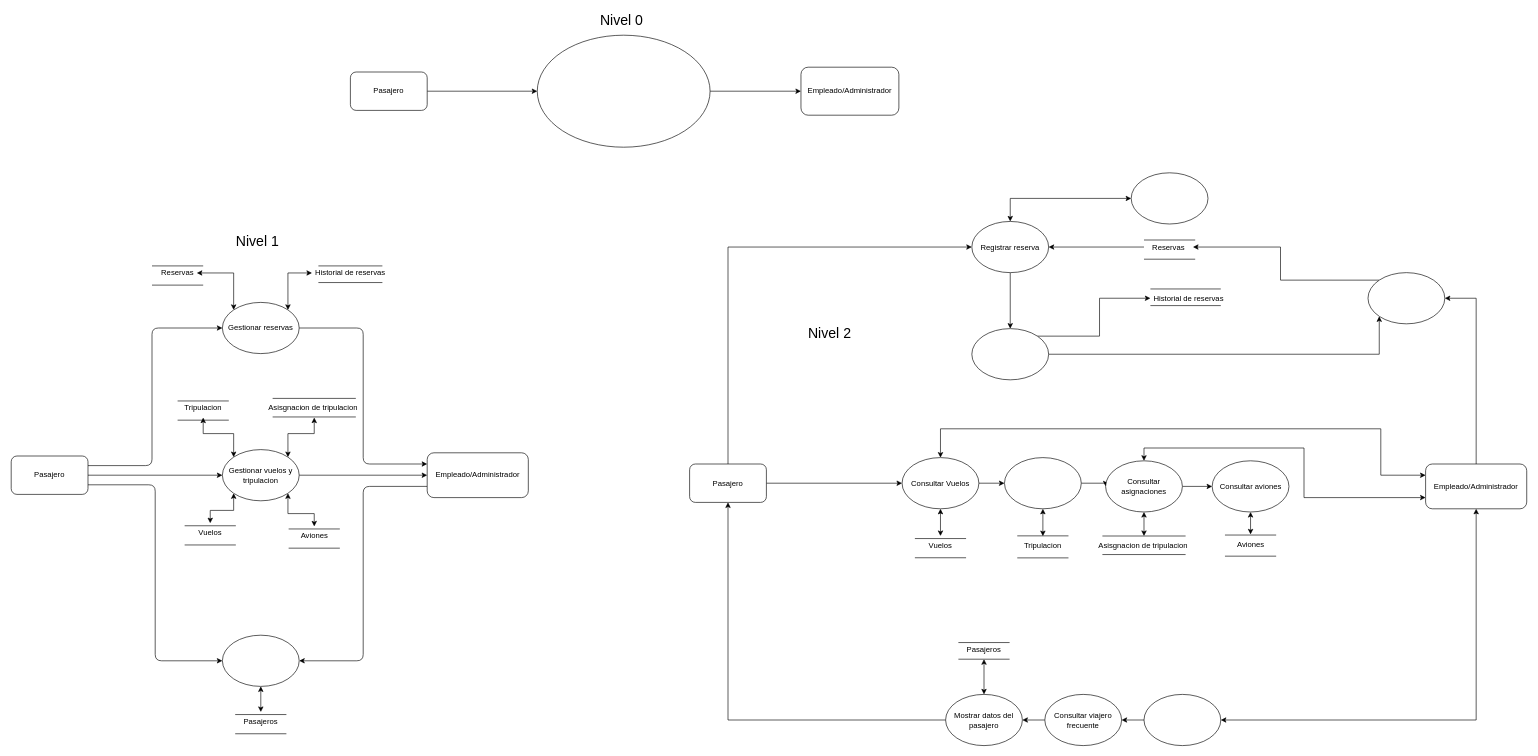
This 1538x756 diagram has some shape labels left out. Each missing label, with the centre of its shape:
"Buscar codigo de reserva" goes at point (1010, 354).
"Confirmar y guardar" goes at point (1169, 198).
"Consultar pasajeros" goes at point (1182, 720).
"Consultar tripulacion" goes at point (1042, 483).
"Eliminar reserva" goes at point (1406, 298).
"Gestionar pasajeros" goes at point (260, 660).
"Sistema de gestion" goes at point (623, 91).
